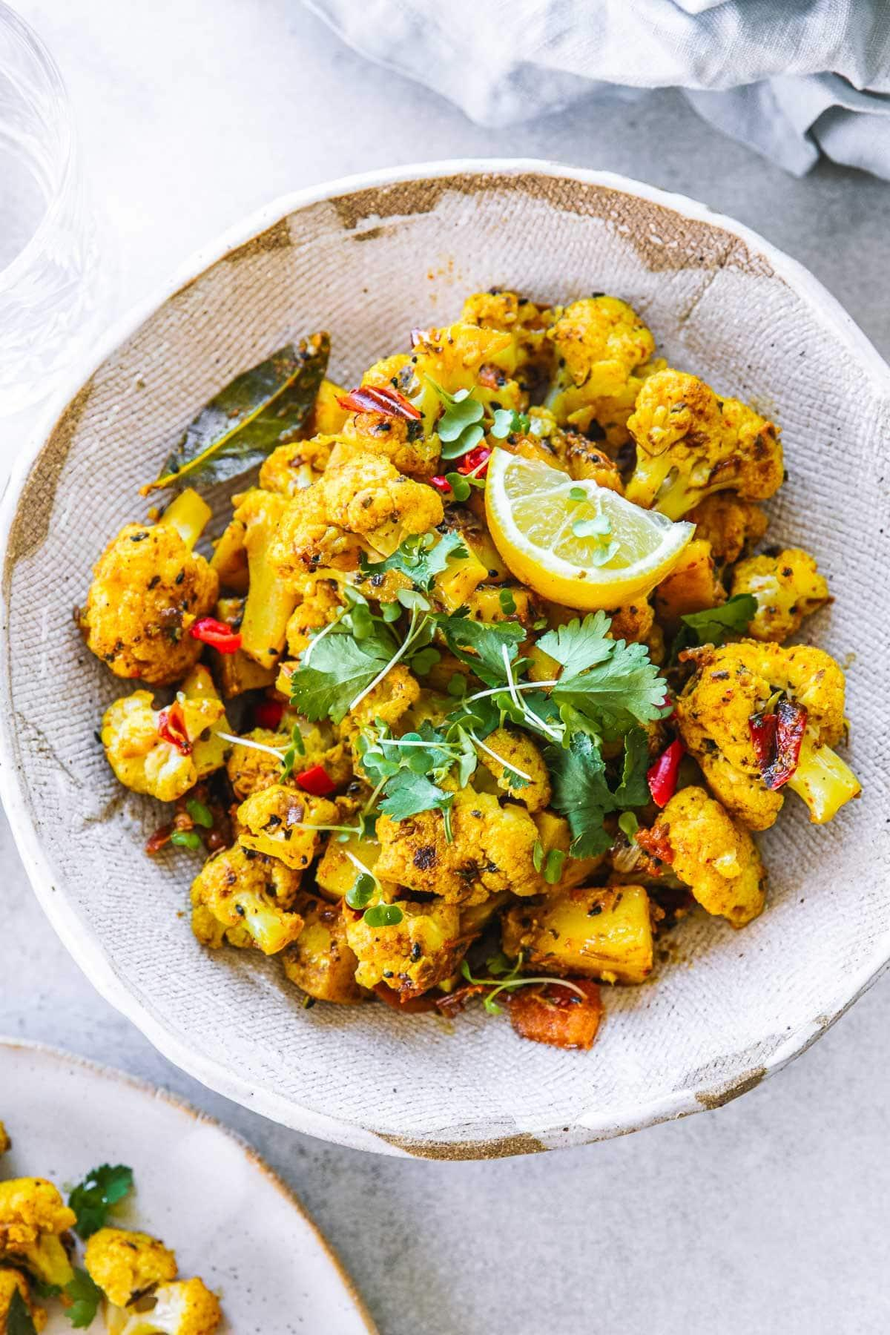aloo gobhi: (161, 309, 831, 1007)
